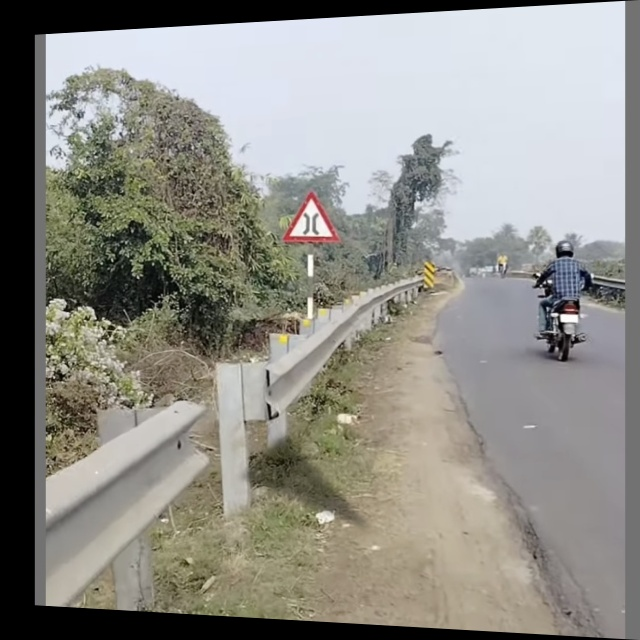Narrow_Bridge: (285, 190, 333, 241)
